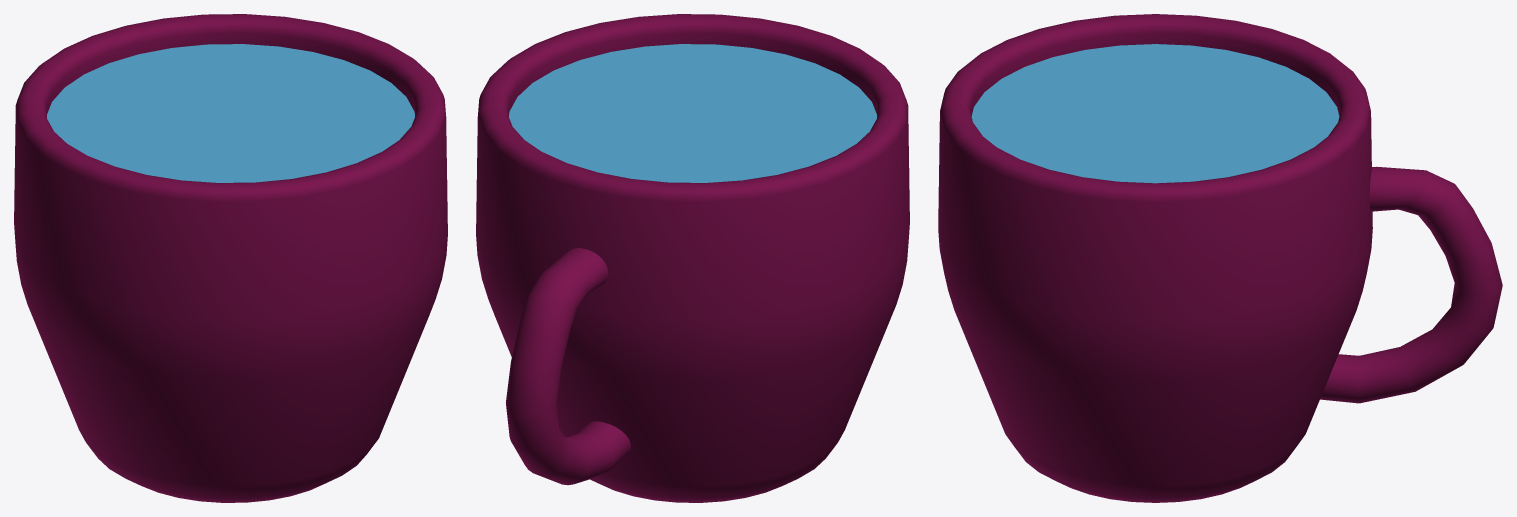
Rendered from SM_Prop_Watercup.fbx.
3 views of the same model, side by side, from view 1: azimuth 30°, elevation 25°; view 2: azimuth 150°, elevation 25°; view 3: azimuth 270°, elevation 25° (orthographic).
Visible parts, largest first — view 1: Xicara_Agua; view 2: Xicara_Agua; view 3: Xicara_Agua.
Boxes of the visible parts, x1,y1,x2,y2 form: Xicara_Agua: (14, 14, 447, 502); Xicara_Agua: (476, 14, 909, 502); Xicara_Agua: (938, 14, 1502, 502).
Size of the model in its own units: 202 by 182 by 262.
